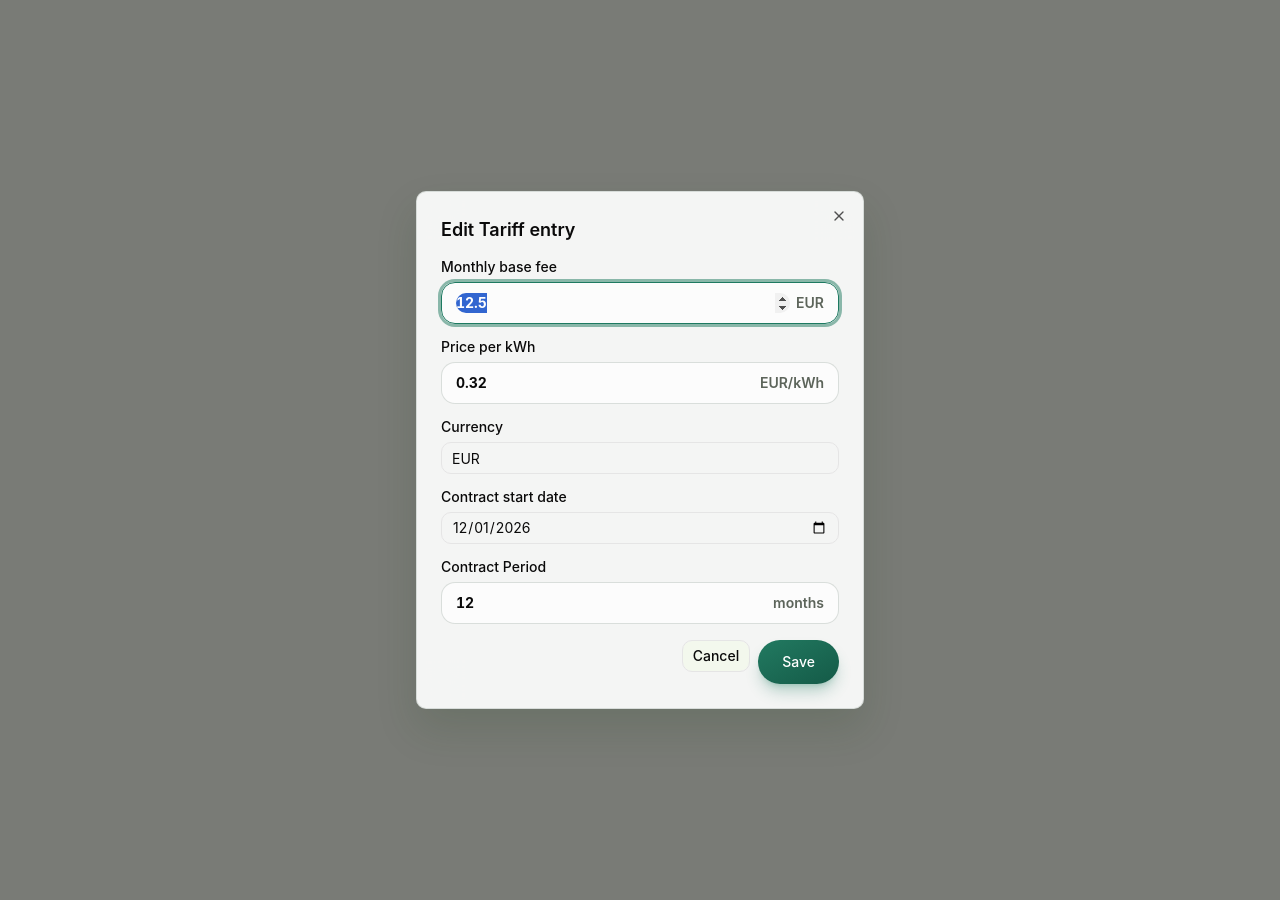
Scenario: EditTariffDialog › a non-409 error shows the generic error message
Click the button "Save" at (799, 662), box top-left (758, 640), bottom-right (839, 684)
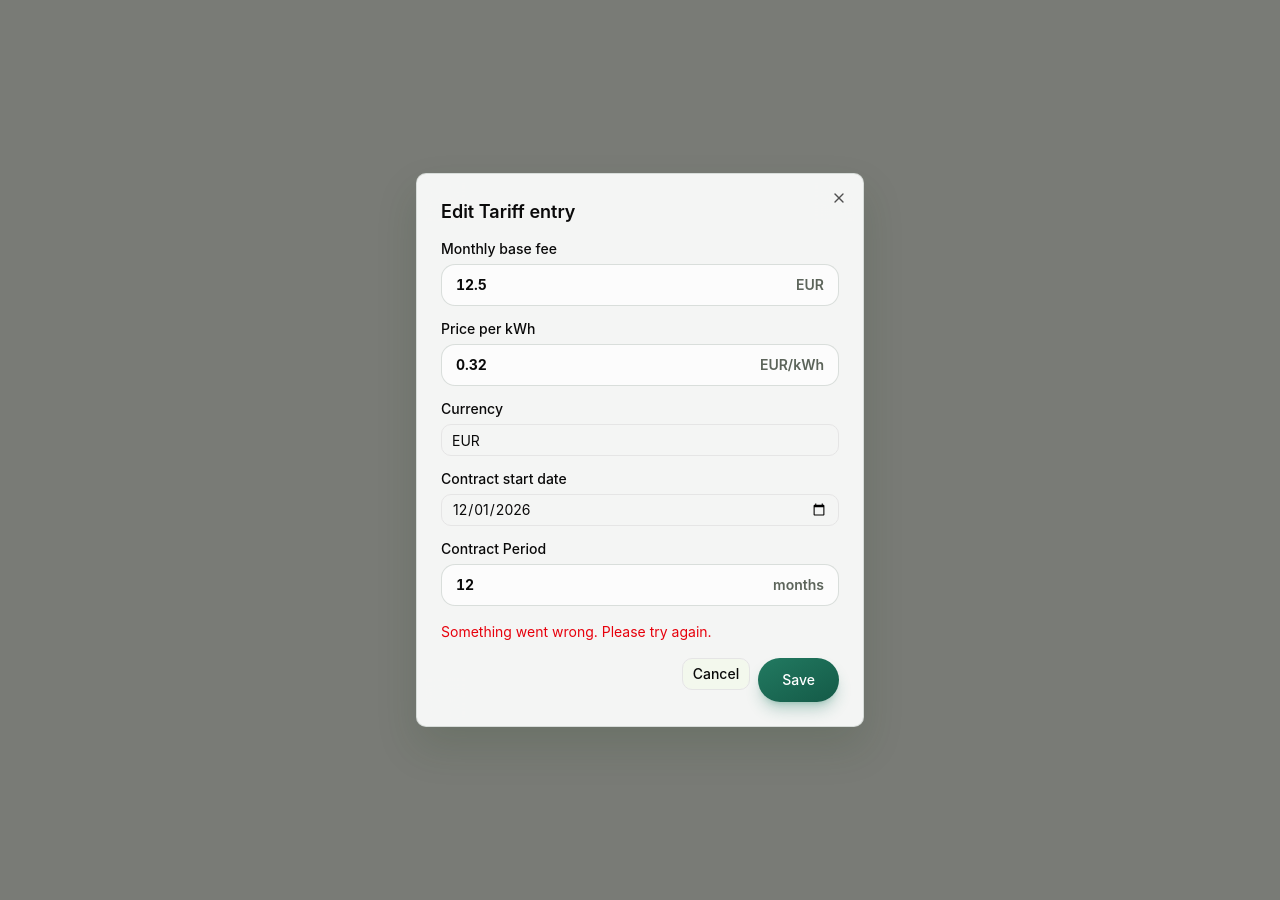
Result: the text "Something went wrong. Please try again." is shown at top-left (441, 623), bottom-right (712, 640)
